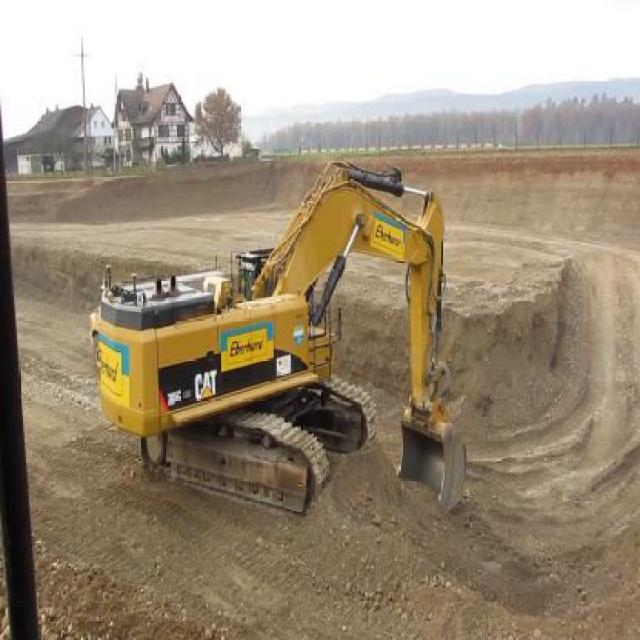Excavator: (90, 156, 467, 518)
